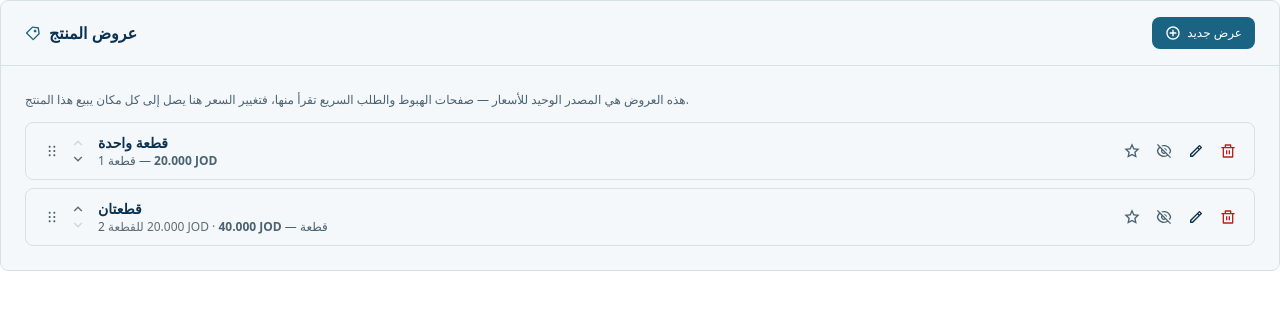
Test: the bin asks before it deletes › — and when the door RETIRES the offer instead, the screen still says so, as it did
Click the button named "حذف" in the row of "قطعة واحدة" at x=1228, y=150, box [1214,136,1242,164]
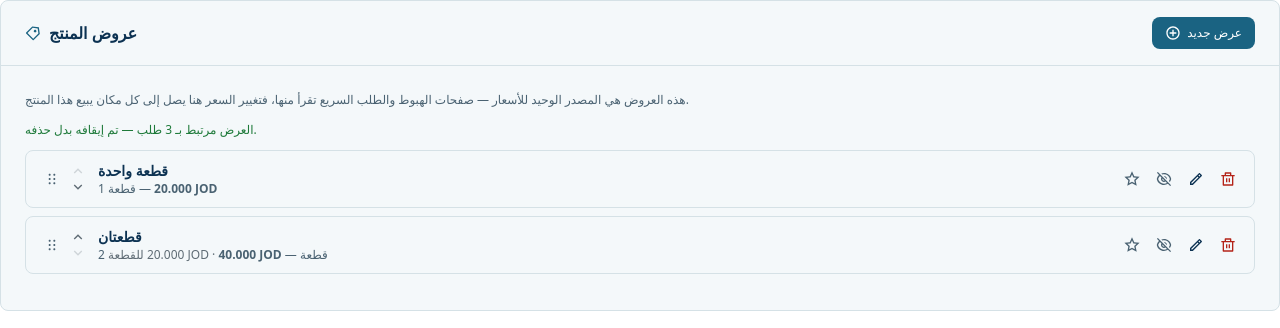
Now the text "العرض مرتبط بـ 3 طلب — تم إيقافه بدل حذفه." is shown, box [25,120,257,138]
